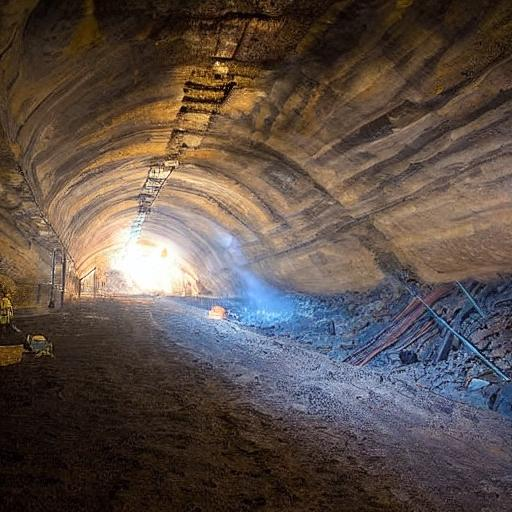smoke: (137, 201, 333, 363)
